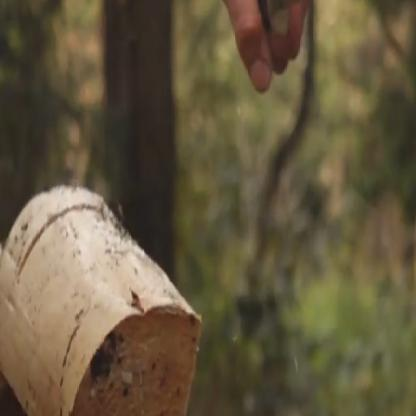knife: (229, 0, 332, 102)
